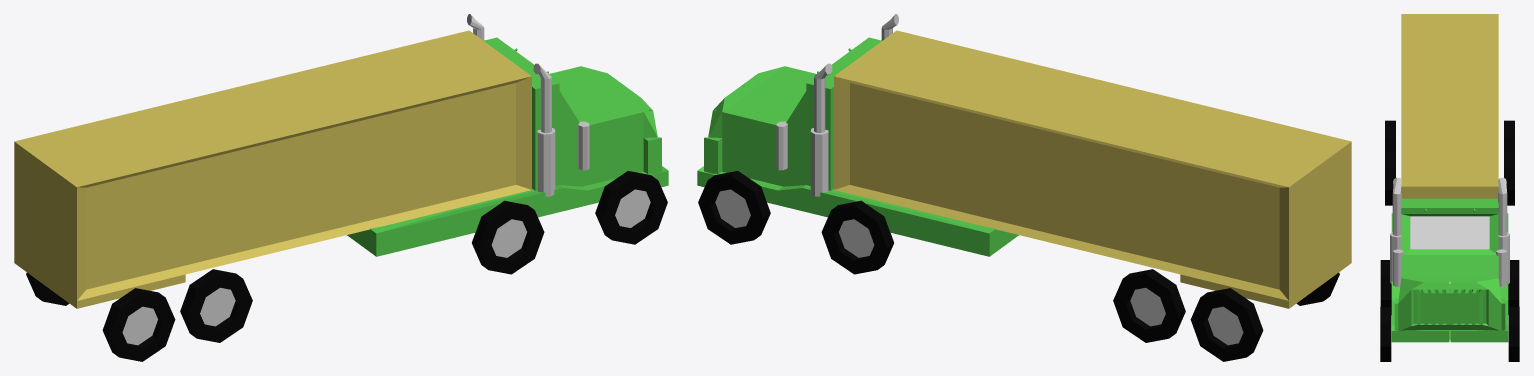
File: carroFeo.fbx
The picture shows the model from 3 angles, left to right: view 1: azimuth 30°, elevation 25°; view 2: azimuth 150°, elevation 25°; view 3: azimuth 270°, elevation 25°; orthographic projection. The views are drawn at different scales.
Visible parts, largest first — view 1: Cube; view 2: Cube; view 3: Cube.
Part boxes in pixels (x1,y1,x2,y2): Cube: (14, 14, 668, 361); Cube: (697, 14, 1351, 361); Cube: (1380, 14, 1519, 361).
Bounding box in the file's own units: 1079 × 342 × 286.
